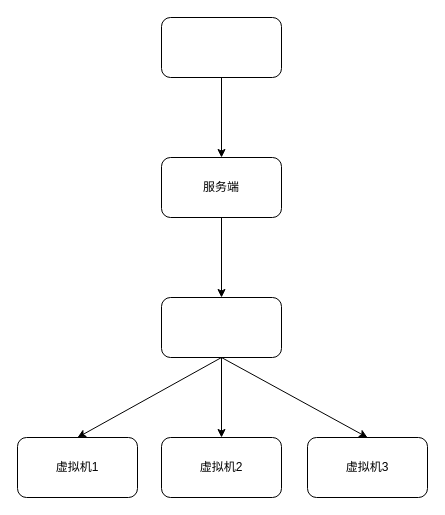
This 445x515 diagram has some shape labels left out. Each missing label, with the centre of its shape:
"云主机管理系统" belongs at pixel 221 327.
"终端" belongs at pixel 221 47.
